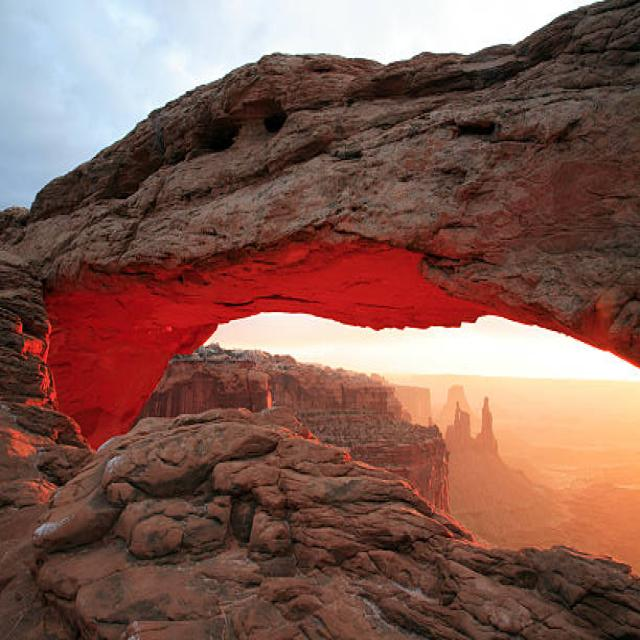Sedimentary: (2, 46, 640, 373), (3, 412, 445, 640)
